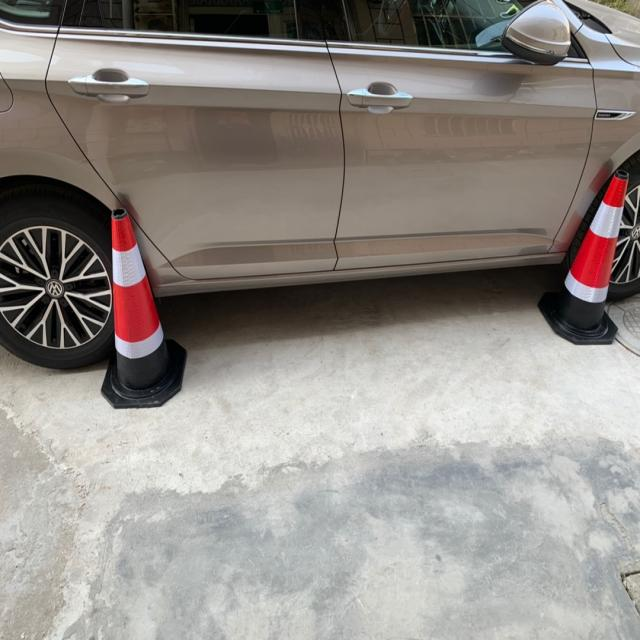car: (2, 1, 640, 366)
reflective_cone: (96, 209, 188, 403), (538, 166, 624, 345)
